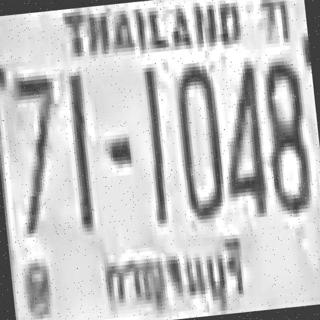N00: (170, 60, 226, 219)
N01: (64, 71, 95, 228), (140, 65, 170, 222)
N04: (214, 59, 268, 214)
N07: (9, 70, 66, 234), (10, 70, 61, 178)
N08: (258, 56, 312, 212)
P17: (92, 226, 254, 320)
